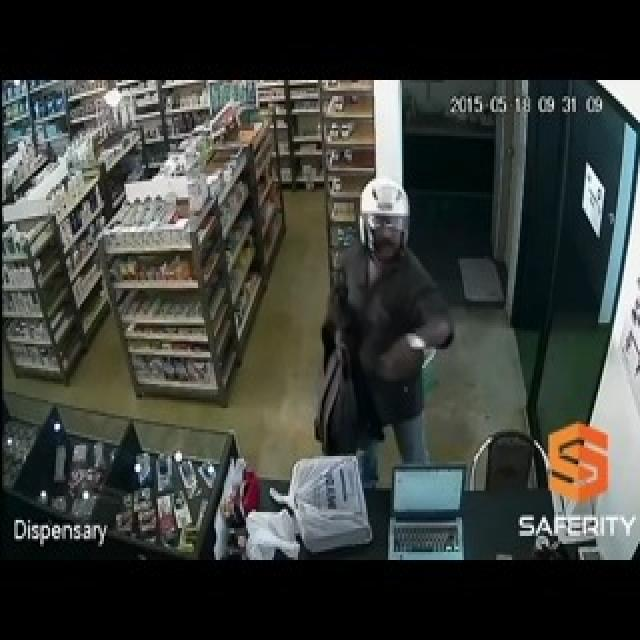thief: (315, 181, 443, 461)
